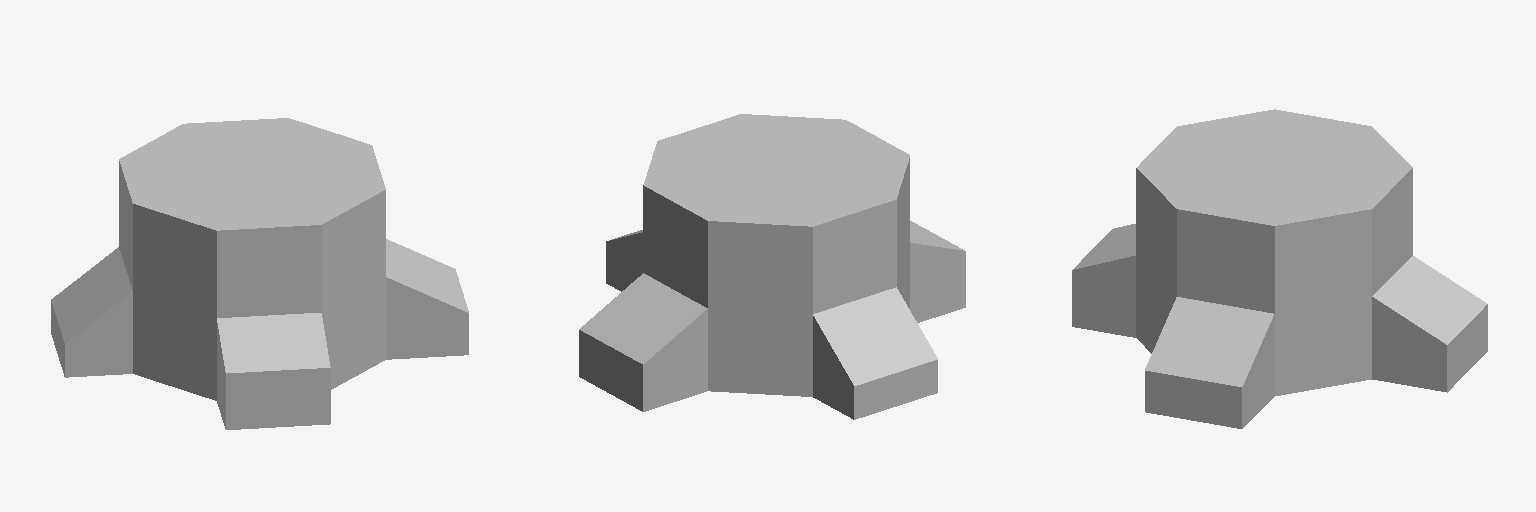
Rendered from Stump.obj.
3 views of the same model, side by side, from view 1: azimuth 30°, elevation 25°; view 2: azimuth 150°, elevation 25°; view 3: azimuth 270°, elevation 25° (orthographic).
Parts seen in each view (by area): view 1: Cylinder; view 2: Cylinder; view 3: Cylinder.
Boxes of the visible parts, <box> form: Cylinder: <box>51,118,468,429</box>; Cylinder: <box>579,114,965,419</box>; Cylinder: <box>1072,109,1487,428</box>.
Bounding box in the file's own units: 2.11 × 0.9522 × 2.11.